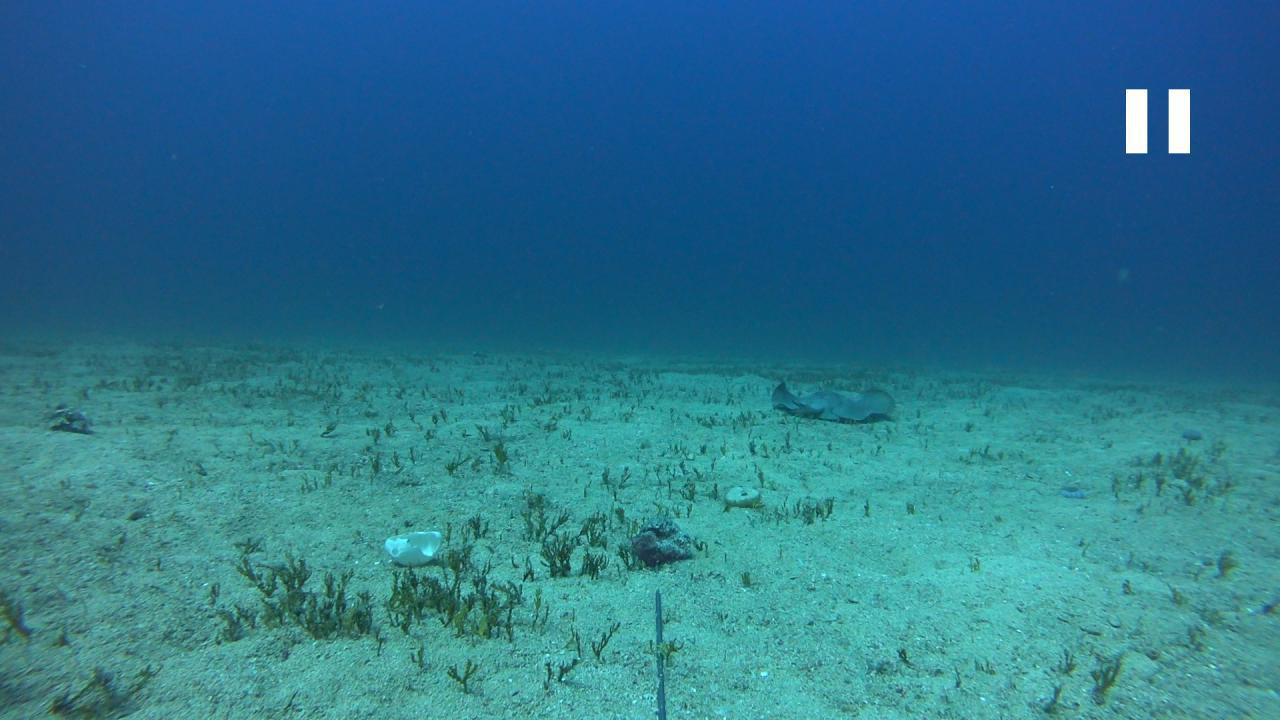dasyatis: (769, 379, 898, 420)
